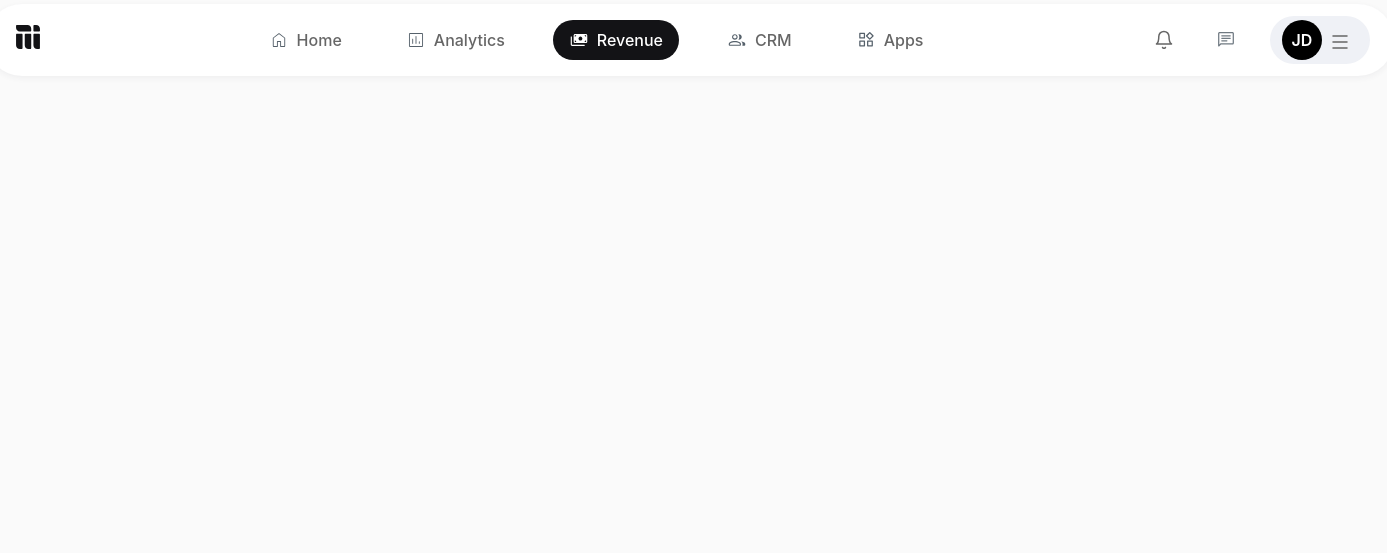
Test: Header Apps Dropdown › displays all app items in dropdown
The image size is (1387, 553).
Click the button "Apps" at (890, 40), box [840,22,940,58]
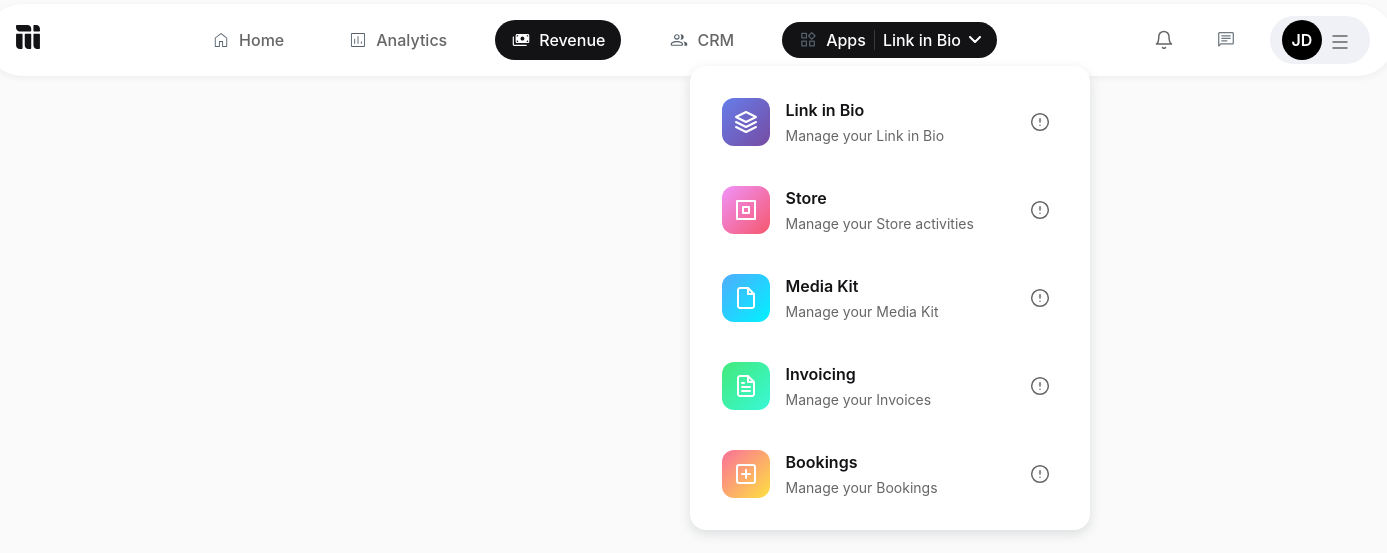
Result: the menu named "apps menu" is shown at [690,66,1090,530]
Result: the text "Manage your Link in Bio" is shown at [786,127,944,144]
Result: the text "Manage your Store activities" is shown at [786,214,1006,234]
